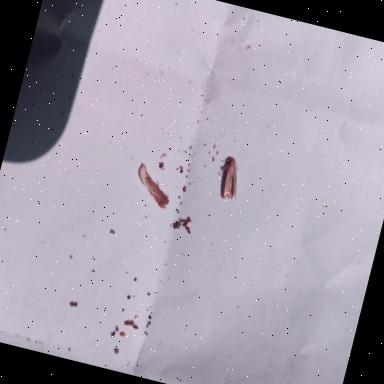pbw: (212, 155, 246, 202)
